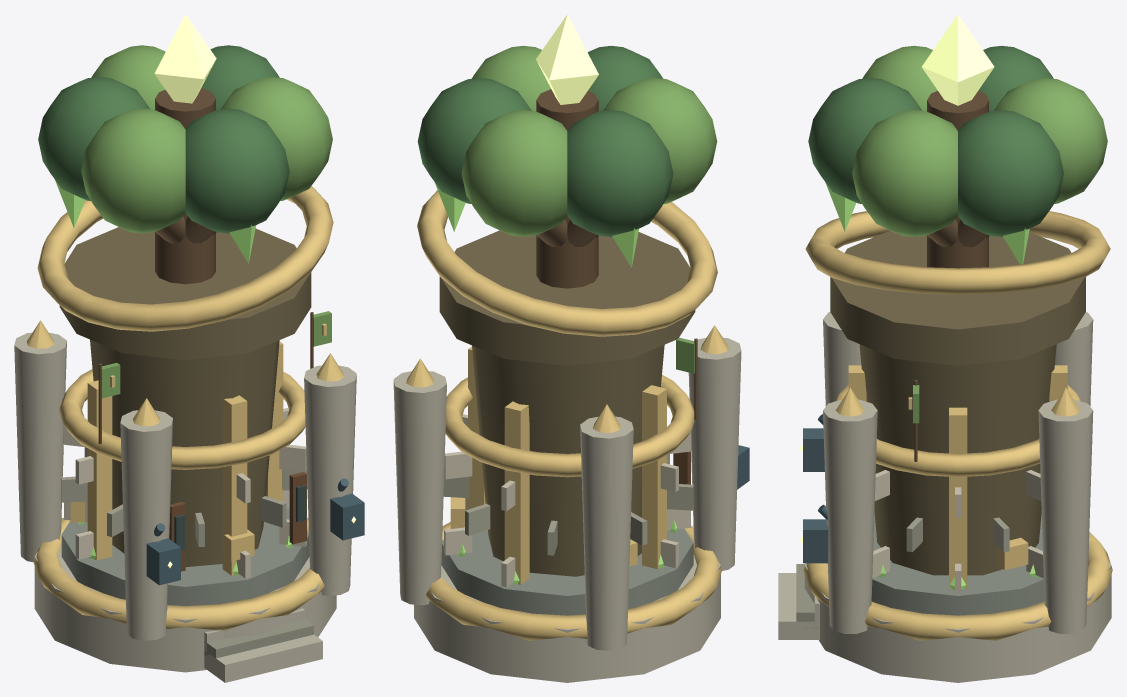
The model's file is tower-nature-3-base.glb.
3 views of the same model, side by side, from view 1: azimuth 30°, elevation 25°; view 2: azimuth 150°, elevation 25°; view 3: azimuth 270°, elevation 25° (orthographic).
Parts seen in each view (by area): view 1: Foundation, Turret, nature-L3-base; view 2: Foundation, Turret, nature-L3-base; view 3: Turret, Foundation, nature-L3-base.
Boxes of the visible parts, <box> form: Foundation: <box>14,311,364,682</box>; Turret: <box>37,14,333,360</box>; nature-L3-base: <box>34,508,336,672</box>; Foundation: <box>393,325,749,650</box>; Turret: <box>417,14,717,365</box>; nature-L3-base: <box>414,528,720,682</box>; Turret: <box>805,14,1110,365</box>; Foundation: <box>778,312,1112,640</box>; nature-L3-base: <box>804,512,1111,682</box>.
Bounding box in the file's own units: 1.69 × 3.65 × 1.83.
